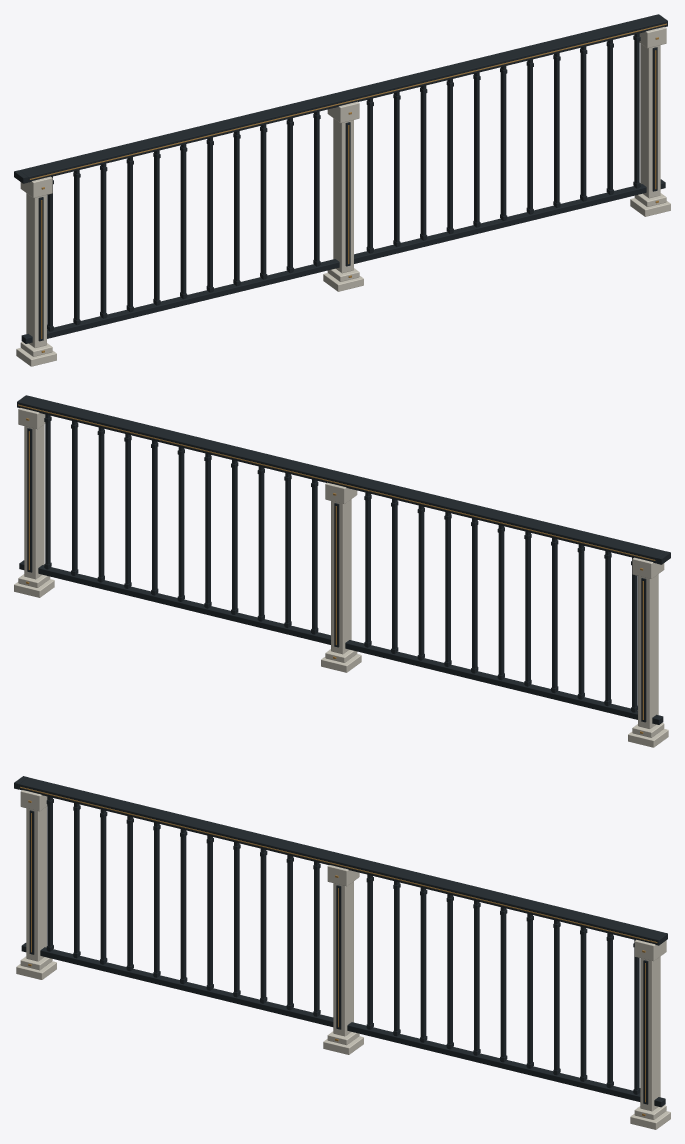
File: SM_Aurelion_KIT_Z04WestRail.fbx
3 renders of one model, top to bottom at view 1: azimuth 30°, elevation 25°; view 2: azimuth 150°, elevation 25°; view 3: azimuth 330°, elevation 25°, orthographic.
Parts seen in each view (by area): view 1: SM_Aurelion_KIT_Z04WestRail; view 2: SM_Aurelion_KIT_Z04WestRail; view 3: SM_Aurelion_KIT_Z04WestRail.
Boxes of the visible parts, <box> form: SM_Aurelion_KIT_Z04WestRail: <box>14,14,670,366</box>; SM_Aurelion_KIT_Z04WestRail: <box>14,395,670,747</box>; SM_Aurelion_KIT_Z04WestRail: <box>14,776,670,1129</box>.
Bounding box in the file's own units: 395 × 16 × 110.
